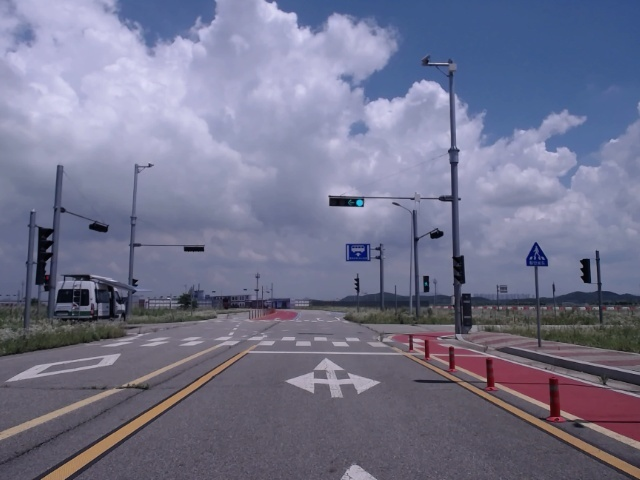all_green_4: (330, 194, 366, 205)
